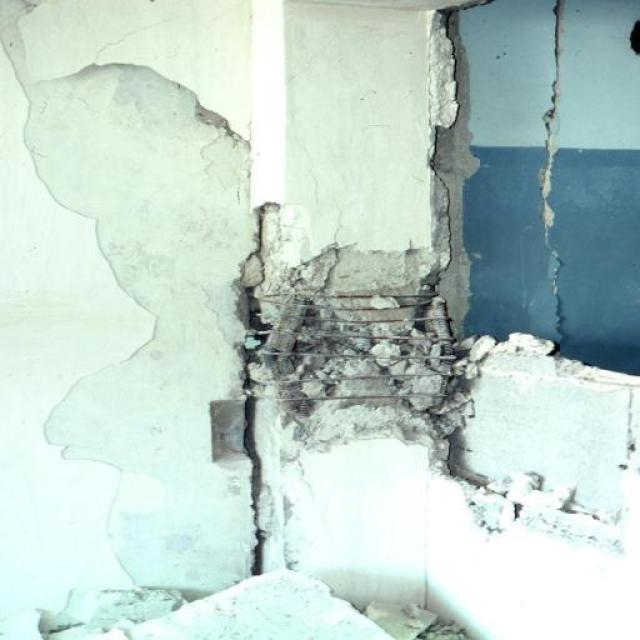D0w0: (245, 246, 455, 448)
